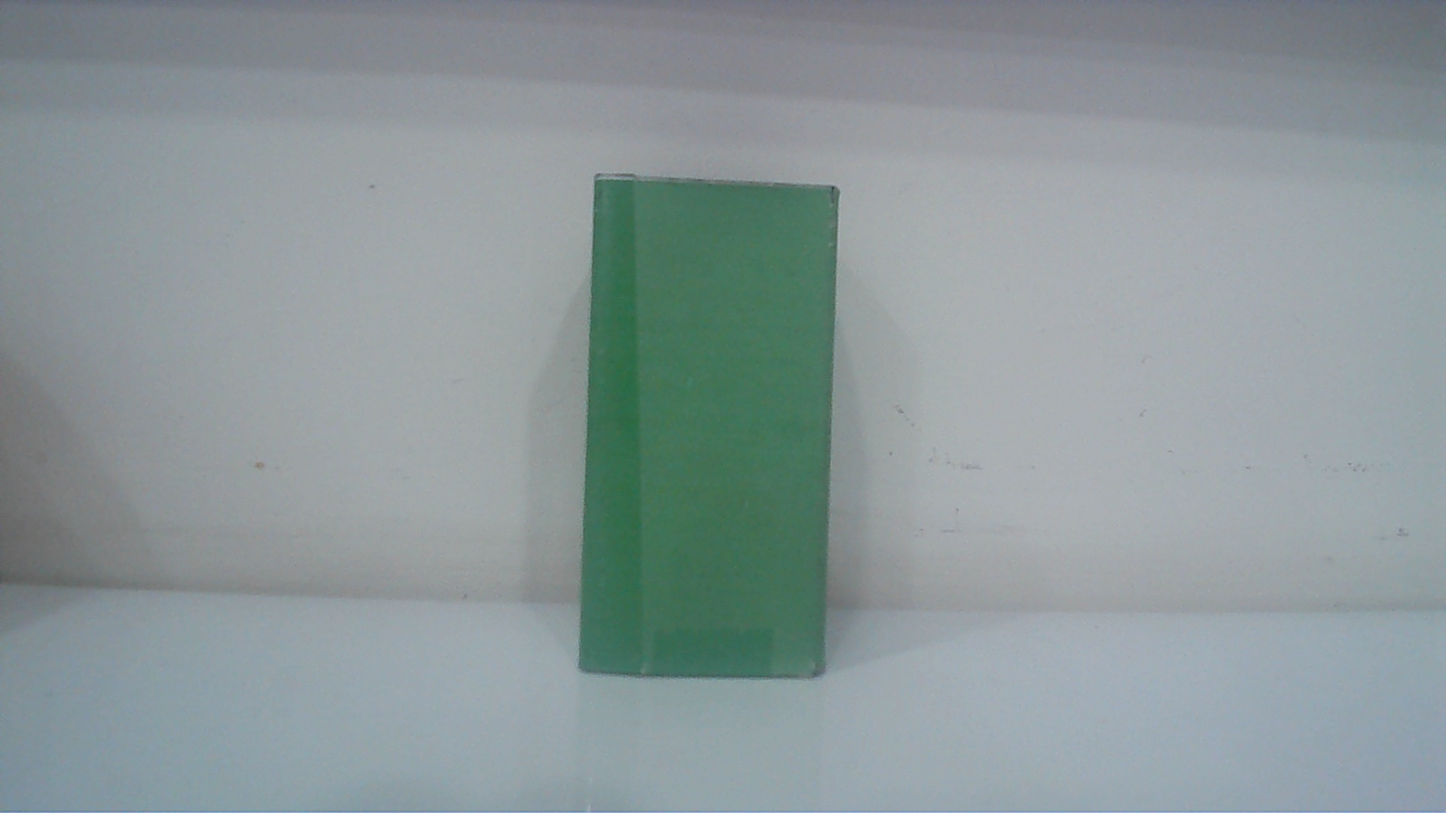green: (575, 162, 836, 693)
